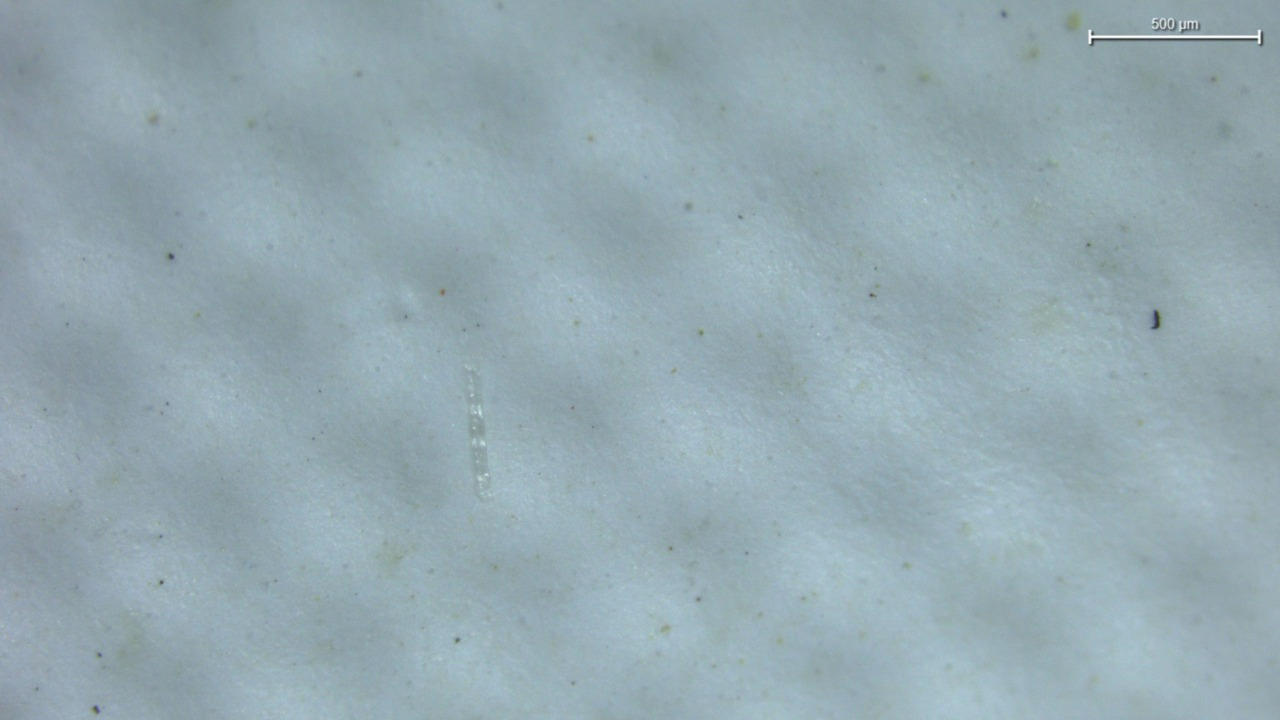microplastic_fragment: (465, 365, 491, 499)
